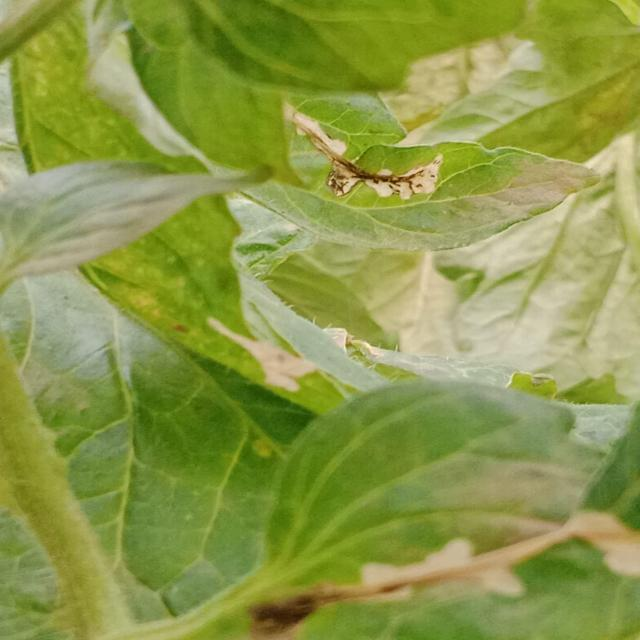Tuta absoluta: (270, 106, 447, 220)
